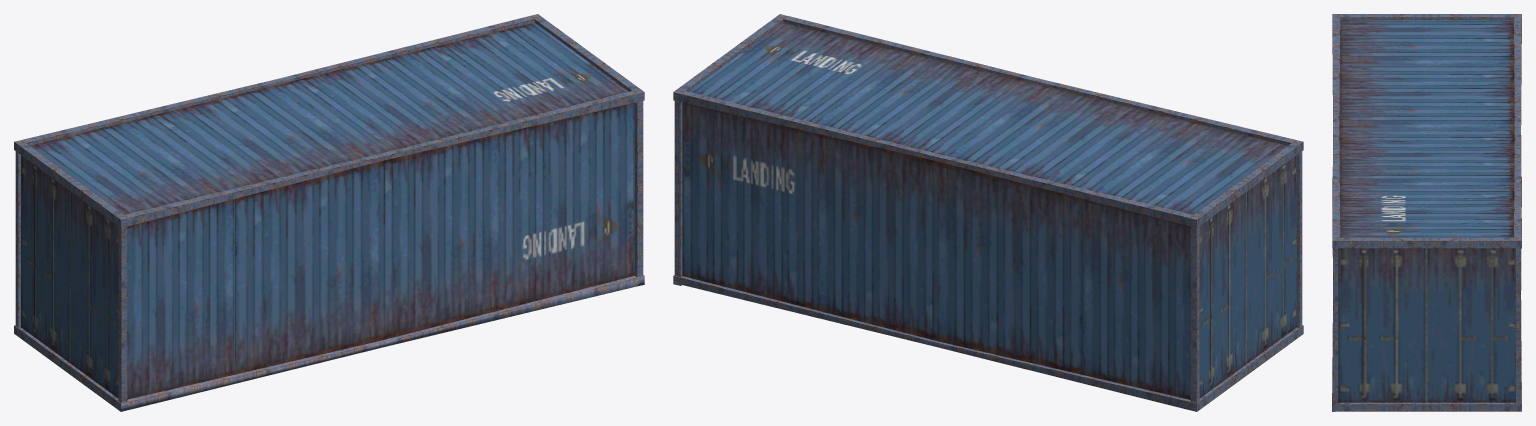
Rendered from containerbluea_mobile_containers_mobile_0_lev1.glb.
3 renders of one model, left to right at view 1: azimuth 30°, elevation 25°; view 2: azimuth 150°, elevation 25°; view 3: azimuth 270°, elevation 25°, orthographic. The views are drawn at different scales.
Visible parts, largest first — view 1: containerbluea_mobile_containers_mobile_0_lev1; view 2: containerbluea_mobile_containers_mobile_0_lev1; view 3: containerbluea_mobile_containers_mobile_0_lev1.
Boxes of the visible parts, x1,y1,x2,y2 form: containerbluea_mobile_containers_mobile_0_lev1: (14,14,644,411); containerbluea_mobile_containers_mobile_0_lev1: (673,14,1303,411); containerbluea_mobile_containers_mobile_0_lev1: (1332,14,1521,411).
Size of the model in its own units: 5.37 by 1.89 by 1.9.
Materials: 1 (1 with a texture image).
